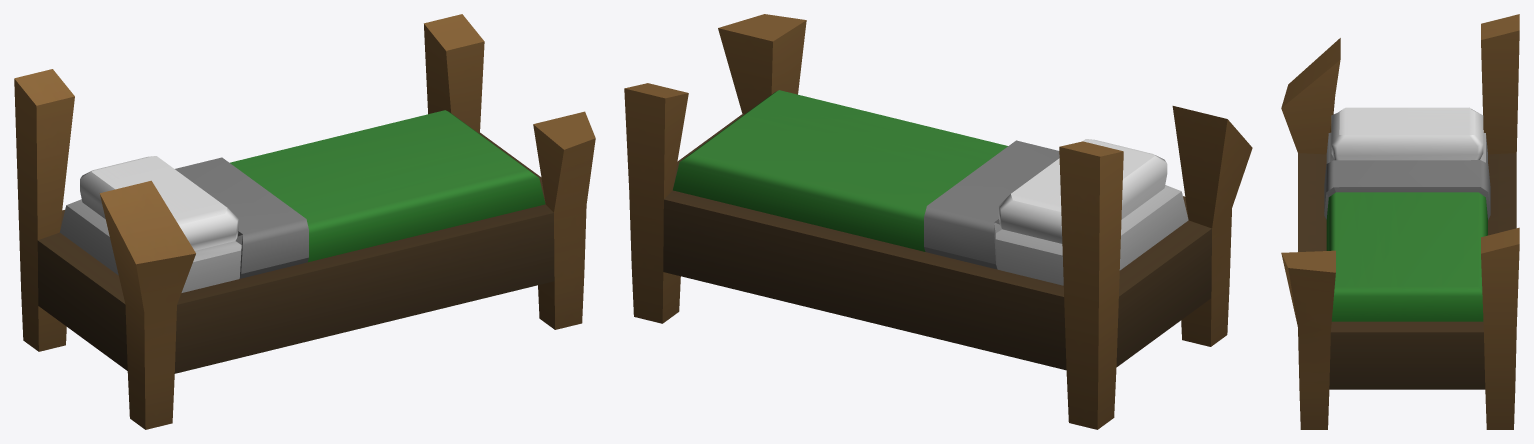
The model's file is letto.fbx.
The picture shows the model from 3 angles, left to right: view 1: azimuth 30°, elevation 25°; view 2: azimuth 150°, elevation 25°; view 3: azimuth 270°, elevation 25°; orthographic projection. The views are drawn at different scales.
Parts seen in each view (by area): view 1: SM_letto; view 2: SM_letto; view 3: SM_letto.
Boxes of the visible parts, x1,y1,x2,y2 form: SM_letto: (14, 14, 595, 429); SM_letto: (624, 14, 1252, 429); SM_letto: (1281, 14, 1519, 429).
Bounding box in the file's own units: 481 × 249 × 236.
